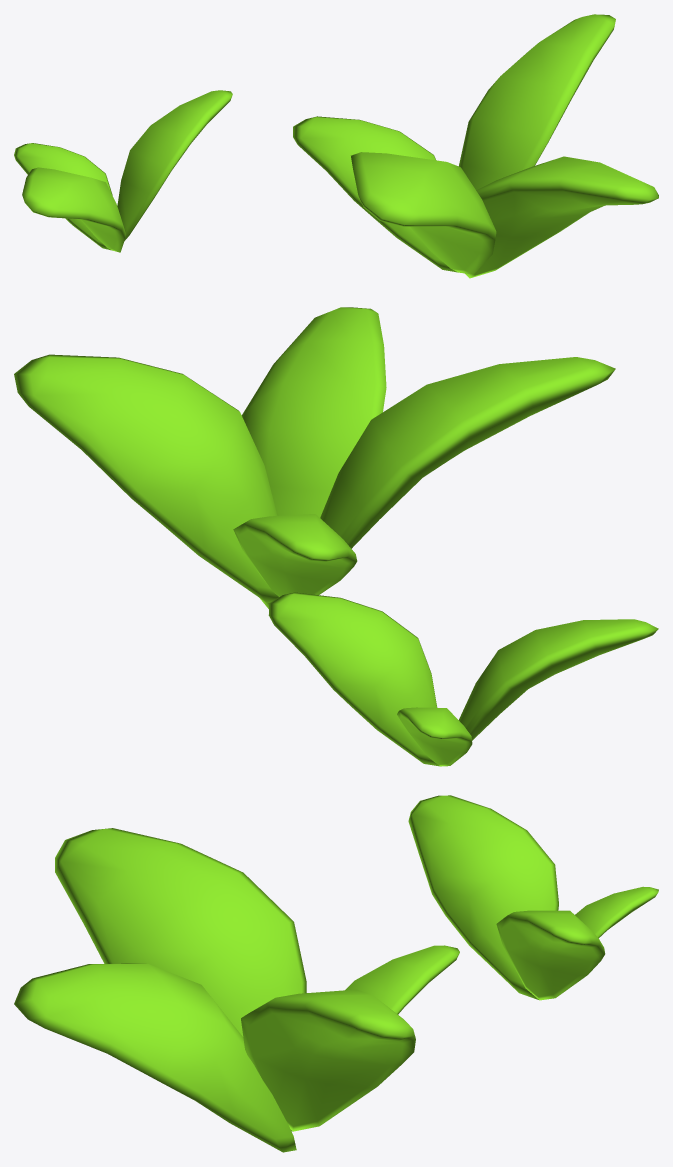
File: grass.fbx
3 renders of one model, top to bottom at view 1: azimuth 30°, elevation 25°; view 2: azimuth 150°, elevation 25°; view 3: azimuth 270°, elevation 25°, orthographic. The views are drawn at different scales.
Parts seen in each view (by area): view 1: Sphere.005; view 2: Sphere.005; view 3: Sphere.005.
Boxes of the visible parts, x1=… form: Sphere.005: x1=14, y1=14, x2=658, y2=278; Sphere.005: x1=14, y1=307, x2=658, y2=766; Sphere.005: x1=14, y1=795, x2=658, y2=1152.
Size of the model in its own units: 137 by 46.44 by 120.
